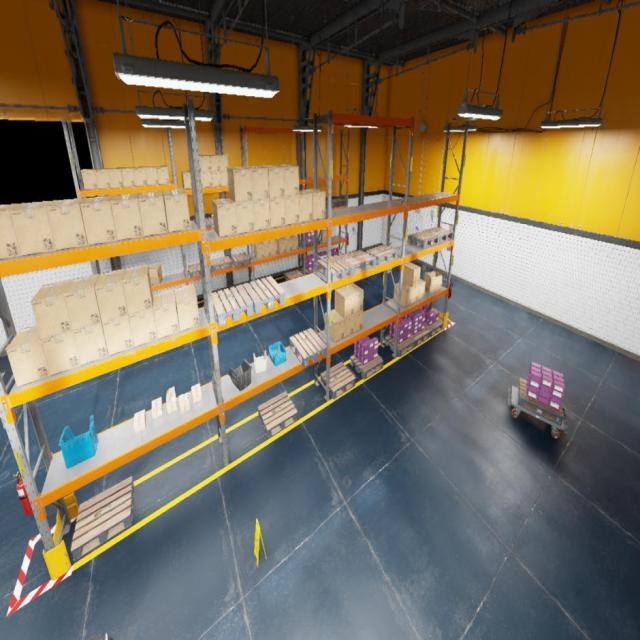box: (6, 324, 50, 386), (9, 200, 56, 255), (31, 280, 72, 340), (46, 198, 88, 250), (64, 274, 101, 331), (80, 196, 117, 245), (95, 268, 128, 322), (41, 331, 80, 376), (110, 193, 144, 240), (122, 264, 152, 315), (73, 323, 108, 365), (153, 289, 180, 339), (138, 192, 168, 236), (129, 299, 157, 346), (0, 203, 23, 260), (102, 316, 134, 356), (174, 284, 200, 331), (162, 190, 190, 232), (212, 198, 238, 237), (244, 166, 269, 200), (228, 167, 252, 202), (262, 166, 284, 198), (303, 189, 325, 220), (277, 165, 299, 196), (325, 309, 344, 343), (344, 282, 364, 314), (334, 286, 354, 318), (236, 201, 254, 233), (253, 199, 270, 231), (393, 282, 412, 307), (403, 262, 421, 287), (270, 197, 285, 227), (285, 194, 300, 224), (300, 190, 312, 222), (424, 272, 443, 292), (402, 282, 419, 304), (81, 168, 98, 190), (95, 168, 111, 189), (166, 386, 177, 414), (108, 168, 124, 187), (133, 410, 146, 433), (121, 168, 136, 186), (156, 166, 170, 185), (145, 166, 159, 185), (178, 392, 190, 414), (343, 314, 354, 338), (148, 266, 162, 284), (134, 167, 147, 186), (152, 397, 163, 419), (353, 310, 363, 333), (192, 383, 202, 403), (253, 242, 264, 259), (200, 155, 211, 172), (418, 278, 426, 300), (210, 154, 220, 171), (181, 172, 191, 189), (218, 155, 229, 170), (202, 172, 212, 187), (212, 171, 221, 186), (277, 238, 285, 254), (283, 238, 292, 252), (220, 171, 228, 186), (263, 244, 271, 257), (271, 242, 278, 255), (292, 236, 298, 250), (321, 230, 326, 242), (200, 172, 204, 187), (261, 240, 270, 245), (283, 236, 292, 240), (199, 155, 201, 172), (270, 239, 276, 243), (165, 215, 167, 222)
forklift: (86, 634, 113, 640)
pallets: (71, 477, 134, 561), (518, 377, 563, 425), (258, 392, 298, 438), (212, 285, 254, 326), (243, 276, 285, 314), (289, 328, 327, 367), (321, 362, 356, 399), (318, 255, 354, 282), (338, 250, 376, 274), (351, 355, 383, 379), (366, 244, 398, 266), (385, 336, 415, 356), (408, 231, 440, 248), (424, 227, 454, 243), (409, 328, 430, 347), (210, 256, 232, 272), (188, 264, 212, 278), (425, 320, 444, 336), (231, 252, 250, 267), (216, 289, 233, 301), (284, 270, 304, 280), (301, 239, 320, 247), (331, 198, 346, 206), (205, 217, 214, 230), (302, 268, 318, 274), (235, 285, 242, 297), (256, 278, 266, 286), (326, 200, 334, 208)
